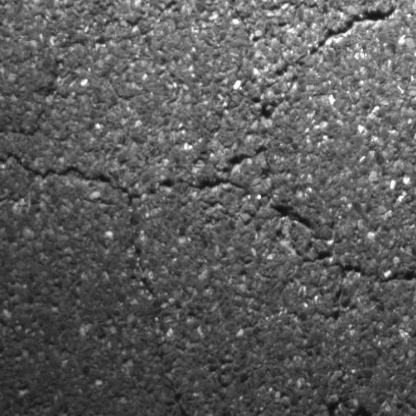Cracks: (0, 150, 319, 311), (268, 0, 416, 84), (285, 239, 416, 287), (151, 325, 211, 416)
